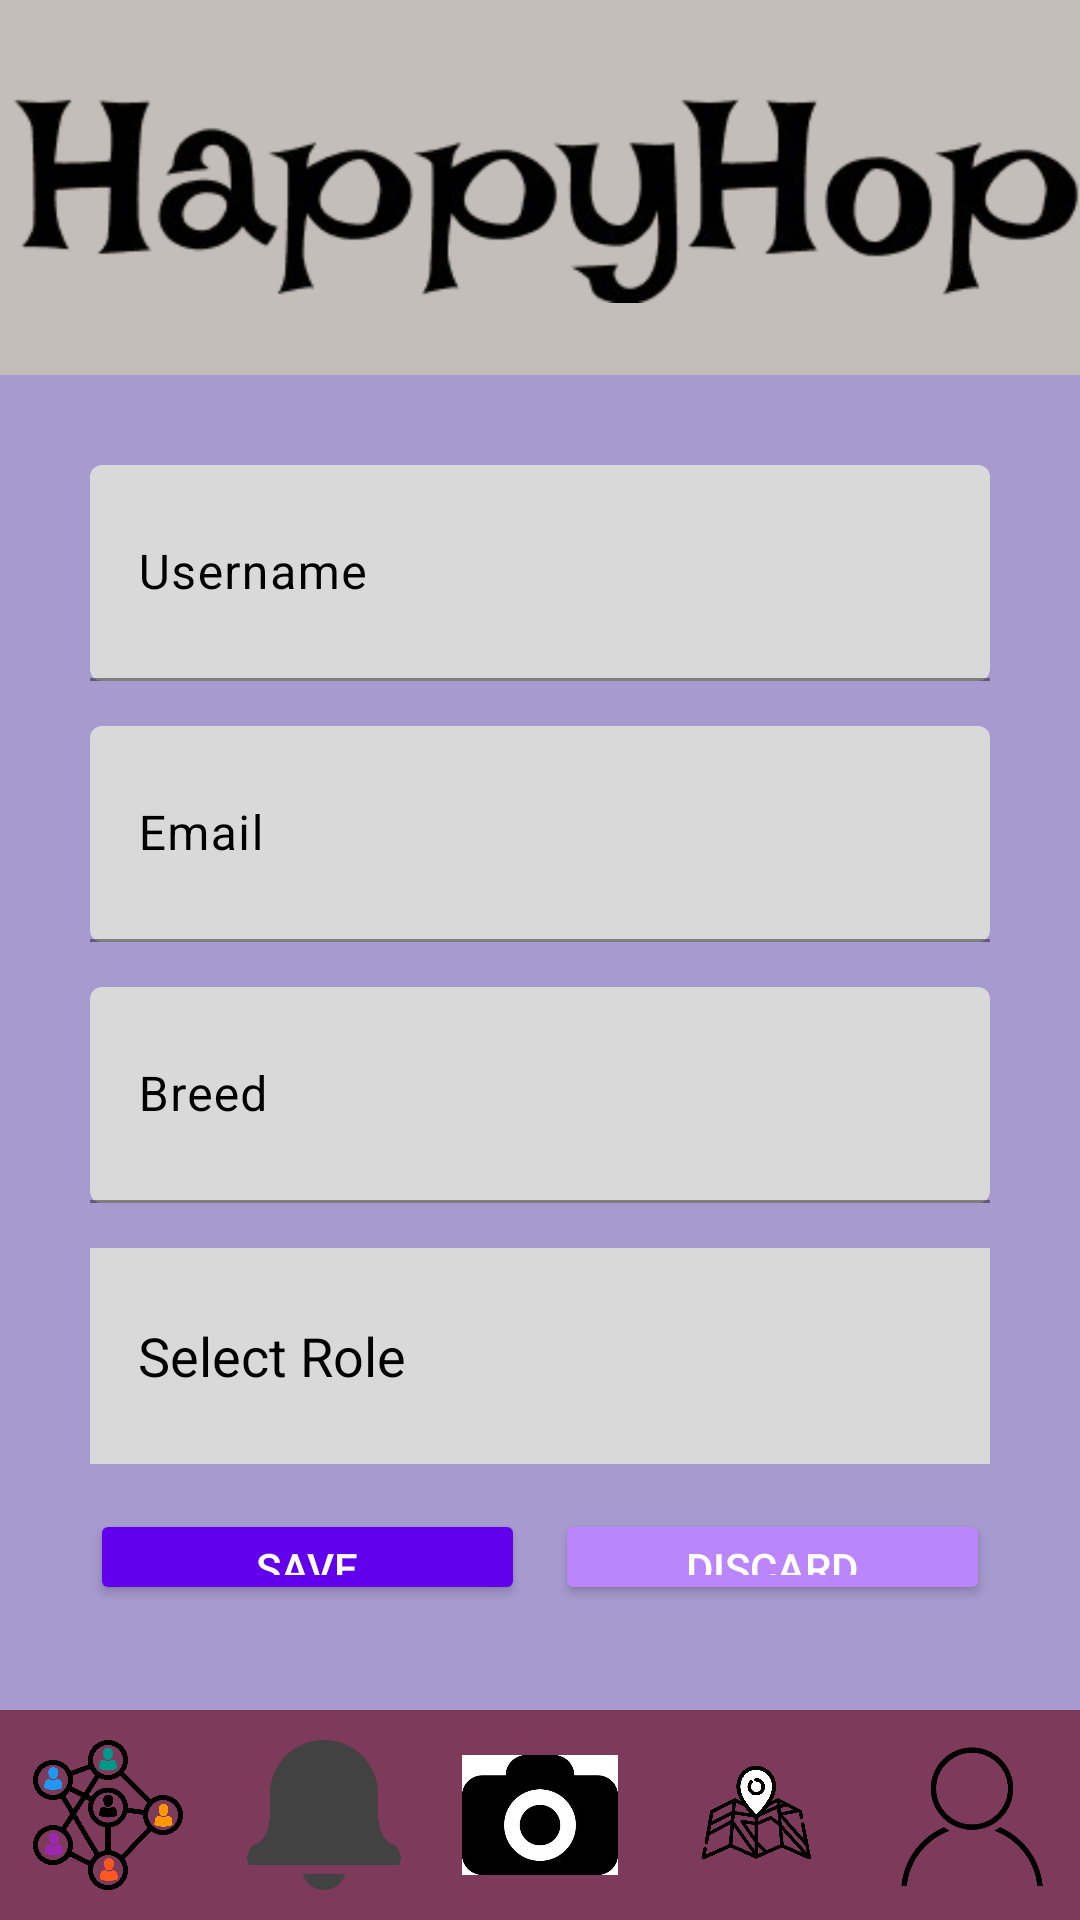

Named icons in this screenshot (1080×1920) and their bounding boxes, (x1, y1, x2, y2):
account: (901, 1747, 1043, 1886)
camera: (462, 1755, 618, 1875)
community: (33, 1740, 183, 1890)
maps: (701, 1766, 811, 1859)
notification: (247, 1740, 401, 1890)
